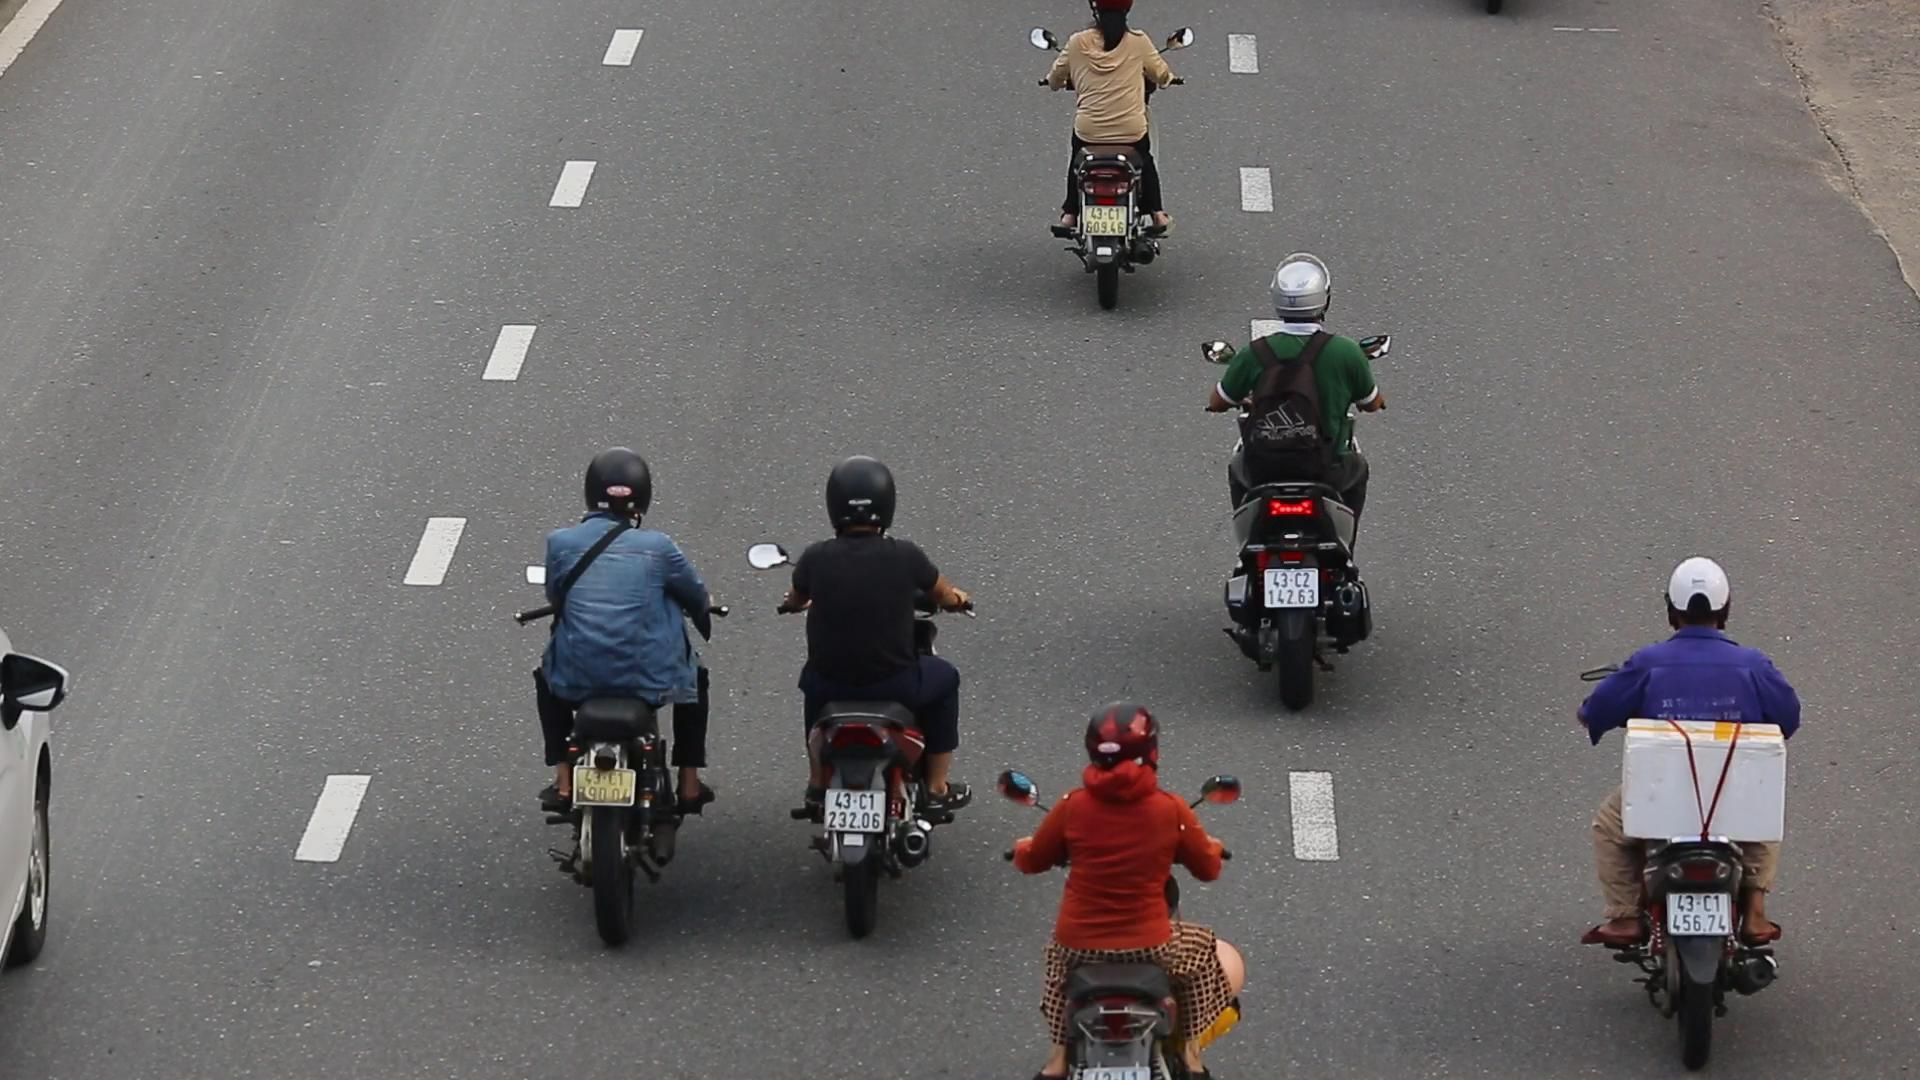motobike: (1573, 549, 1813, 1077), (516, 435, 733, 951), (756, 448, 982, 939), (1197, 248, 1399, 717)
